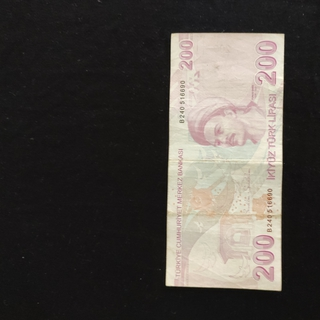200TLBack: (164, 31, 285, 292)
